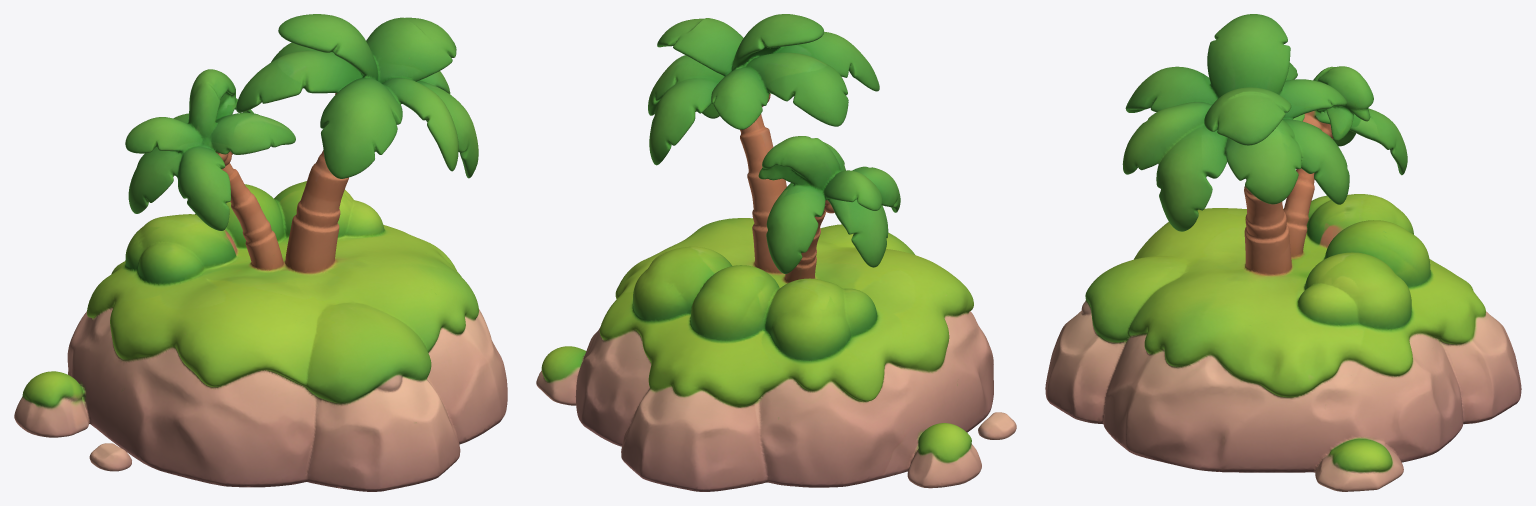
The model's file is Meshy_AI_Palm_Island_20261123_texture.fbx.
The picture shows the model from 3 angles, left to right: view 1: azimuth 30°, elevation 25°; view 2: azimuth 150°, elevation 25°; view 3: azimuth 270°, elevation 25°; orthographic projection. The views are drawn at different scales.
Parts seen in each view (by area): view 1: Mesh_0; view 2: Mesh_0; view 3: Mesh_0.
Part boxes in pixels (left/top/right/bottom): Mesh_0: left=14, top=14, right=507, bottom=491; Mesh_0: left=536, top=14, right=1016, bottom=491; Mesh_0: left=1045, top=14, right=1521, bottom=491.
Size of the model in its own units: 190 by 156 by 180.
1 material, 1 textured.
